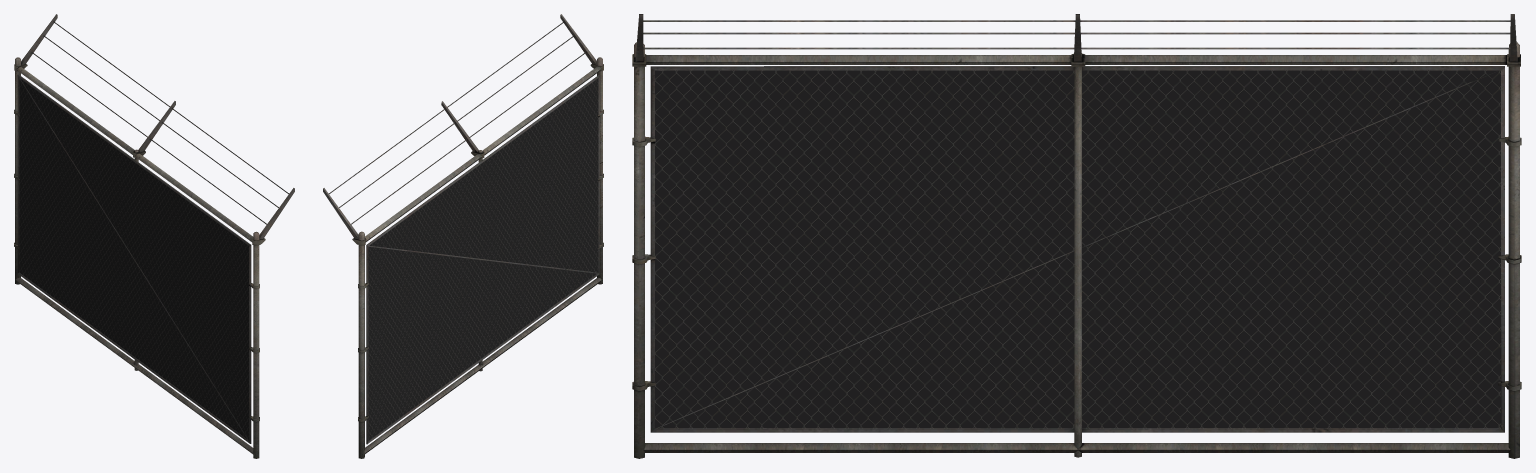
The model's file is exterior_fence002d.glb.
3 views of the same model, side by side, from view 1: azimuth 30°, elevation 25°; view 2: azimuth 150°, elevation 25°; view 3: azimuth 270°, elevation 25° (orthographic). The views are drawn at different scales.
Parts seen in each view (by area): view 1: exterior_fence002d; view 2: exterior_fence002d; view 3: exterior_fence002d.
Boxes of the visible parts, <box> form: exterior_fence002d: <box>14,14,294,458</box>; exterior_fence002d: <box>323,14,603,458</box>; exterior_fence002d: <box>632,14,1521,458</box>.
Bounding box in the file's own units: 0.4964 × 2.9 × 4.9.
2 materials, 2 textured.
